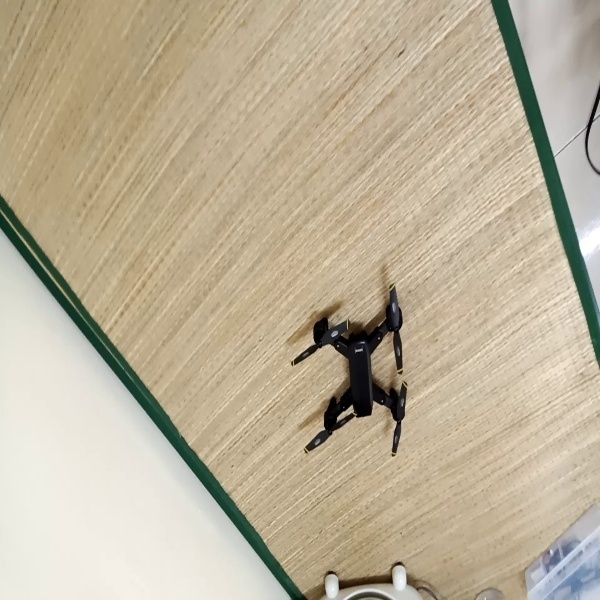drone: (290, 280, 413, 458)
